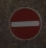No entry: (5, 5, 41, 43)
